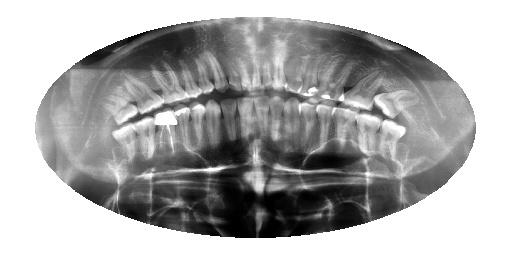i10healthy: (216, 88, 240, 153)
i11decay: (201, 90, 222, 156)
i12healthy: (188, 97, 209, 158)
i13healthy: (168, 99, 194, 163)
i14decay: (149, 104, 179, 163)
i15healthy: (127, 107, 161, 165)
i16healthy: (104, 118, 141, 168)
i1decay: (376, 111, 410, 165)
i2decay: (354, 106, 385, 163)
i3healthy: (328, 98, 361, 160)
i4healthy: (311, 94, 338, 157)
i5decay: (296, 91, 320, 164)
i6healthy: (280, 88, 304, 156)
i7healthy: (267, 87, 286, 149)
i8healthy: (251, 86, 272, 150)
i9healthy: (236, 89, 255, 151)
u10healthy: (222, 38, 245, 96)
u11healthy: (202, 42, 230, 100)
u12healthy: (189, 49, 217, 100)
u13healthy: (170, 51, 205, 103)
u14healthy: (146, 53, 193, 110)
u15healthy: (118, 67, 170, 117)
u16healthy: (98, 84, 141, 131)
u1healthy: (370, 71, 420, 125)
u2decay: (338, 57, 388, 116)
u3healthy: (314, 52, 357, 111)
u4healthy: (294, 47, 325, 101)
u5healthy: (278, 39, 310, 99)
u6healthy: (268, 37, 290, 96)
u7healthy: (258, 39, 275, 93)
u8healthy: (247, 37, 266, 96)
u9healthy: (235, 37, 255, 93)
